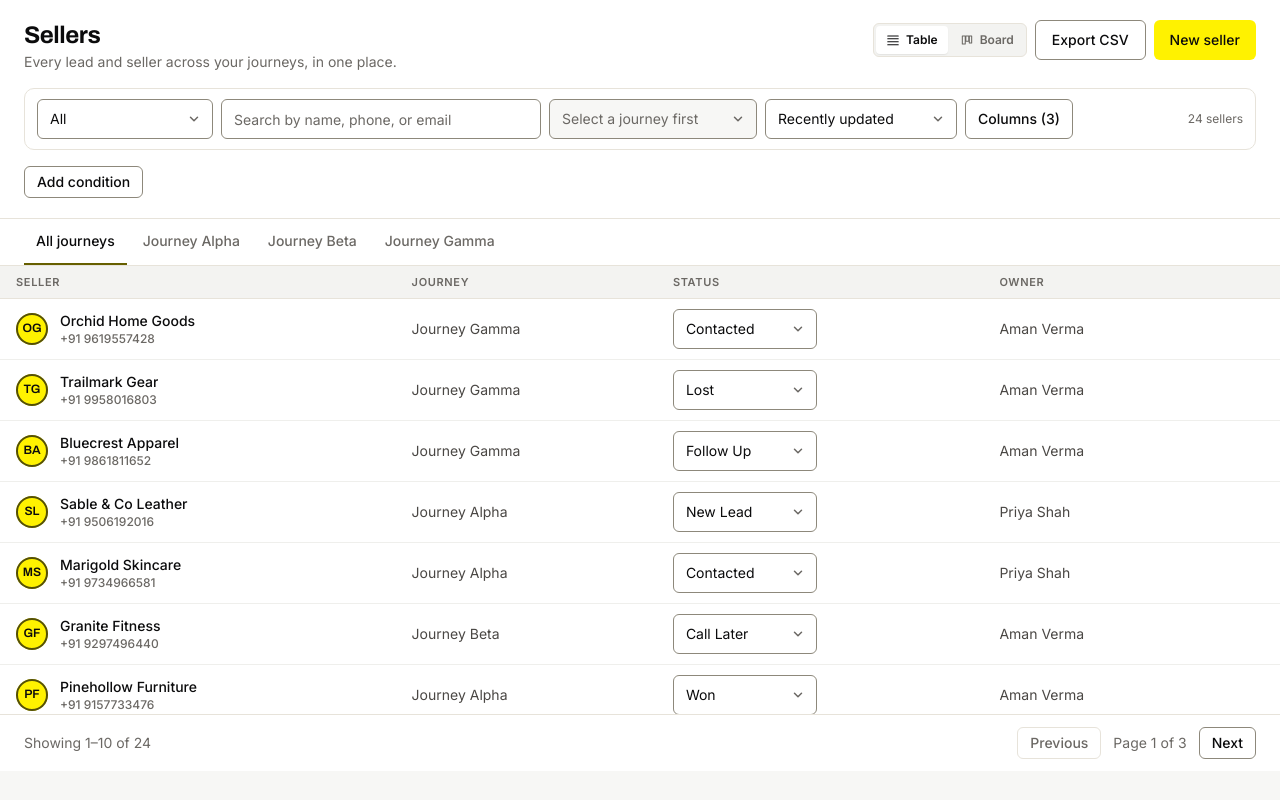
Test: seller list columns › persists optional column visibility in this browser
Expected: the column heading "Owner" is shown, [983, 266, 1200, 298]
Click the button "Columns (3)" at (1019, 119), box [965, 99, 1073, 139]
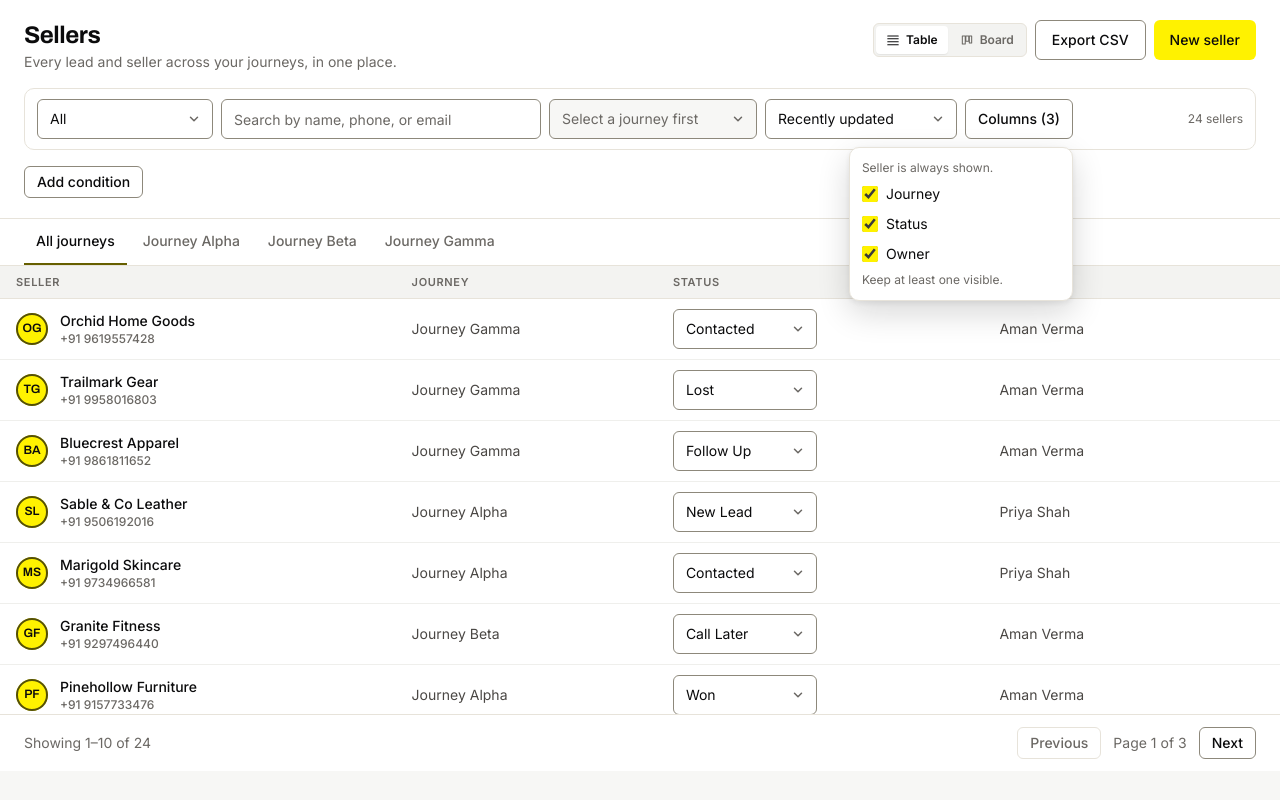
Click the checkbox labelled "Owner" at (870, 254), box [862, 246, 878, 262]
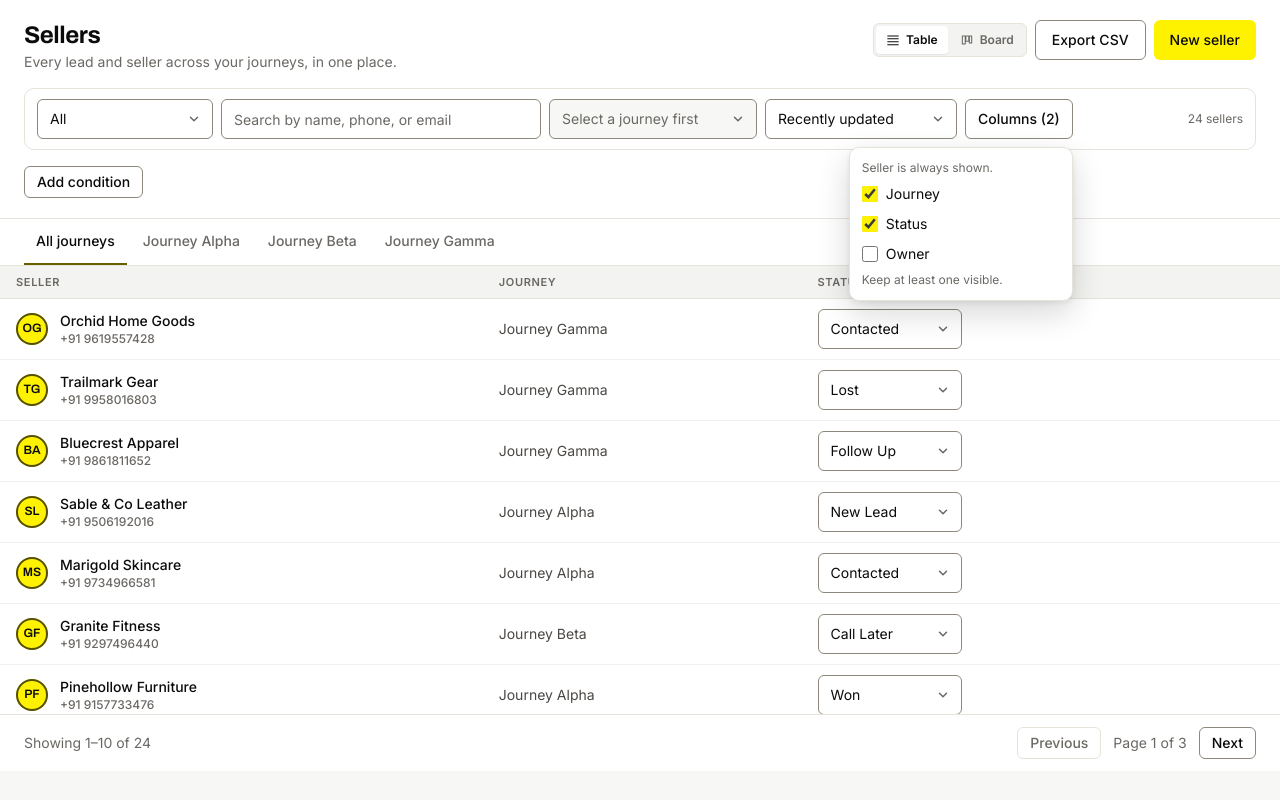
Now the button "Columns (2)" is shown, box [965, 99, 1073, 139]
